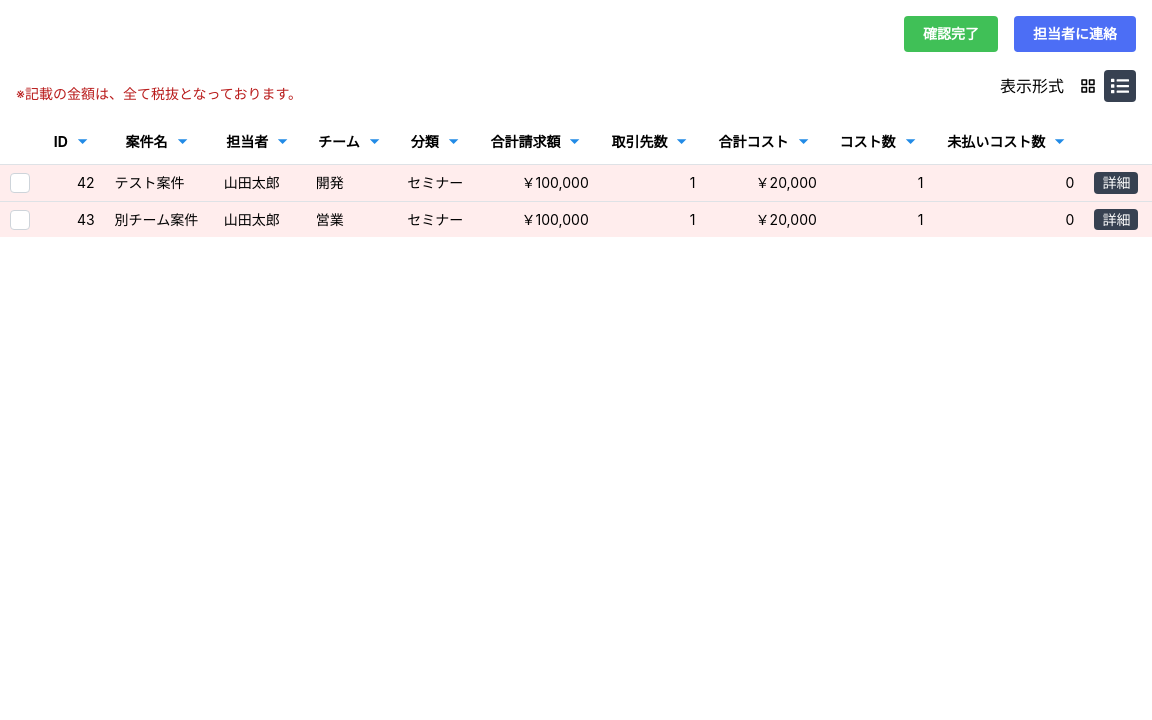
Test case: AccountingMatterList › カード表示でもアクティブなフィルタを解除できる
The width and height of the screenshot is (1152, 720).
Click the button named "チームの絞り込み" at [374, 142], box [364,127,385,157]
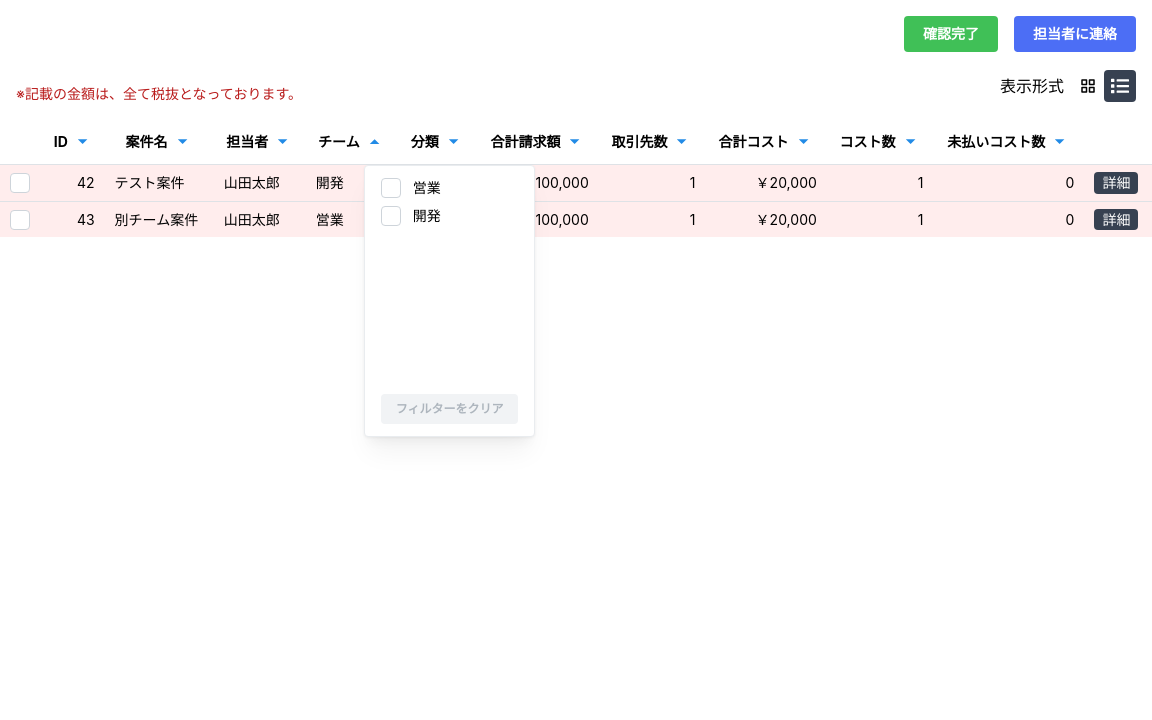
Click the checkbox labelled "開発" at [391, 216], box [381,206,401,226]
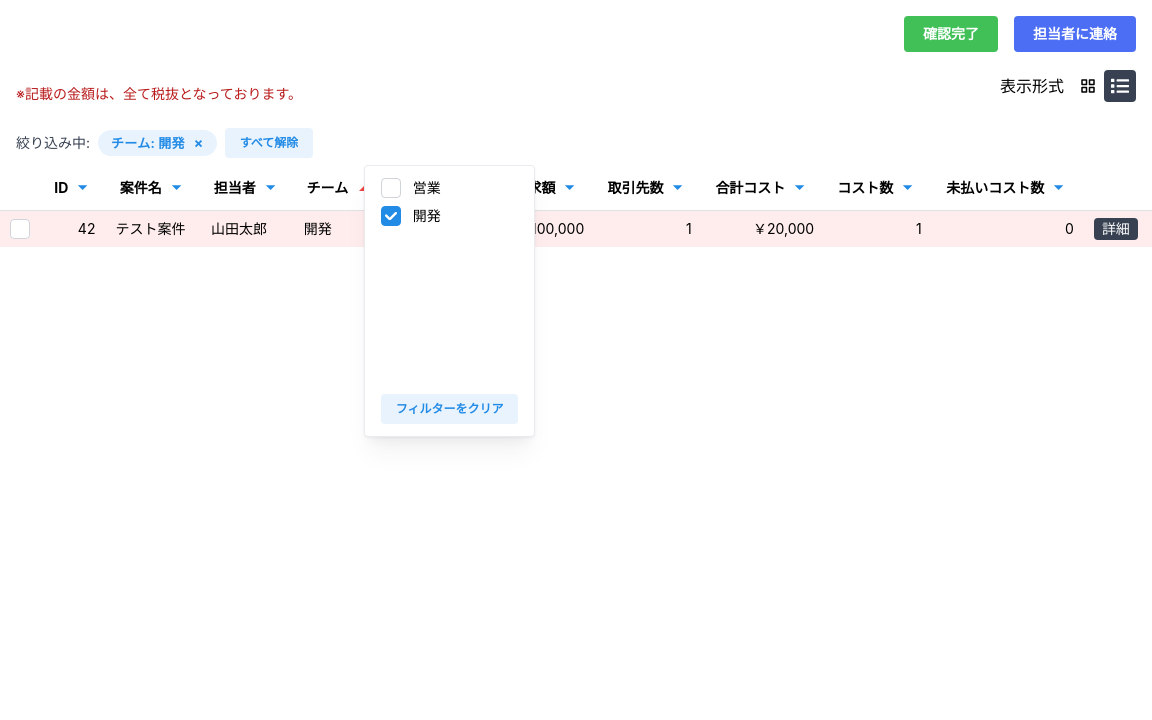
Click the button named "カード表示" at [1088, 86], box [1072,70,1104,102]
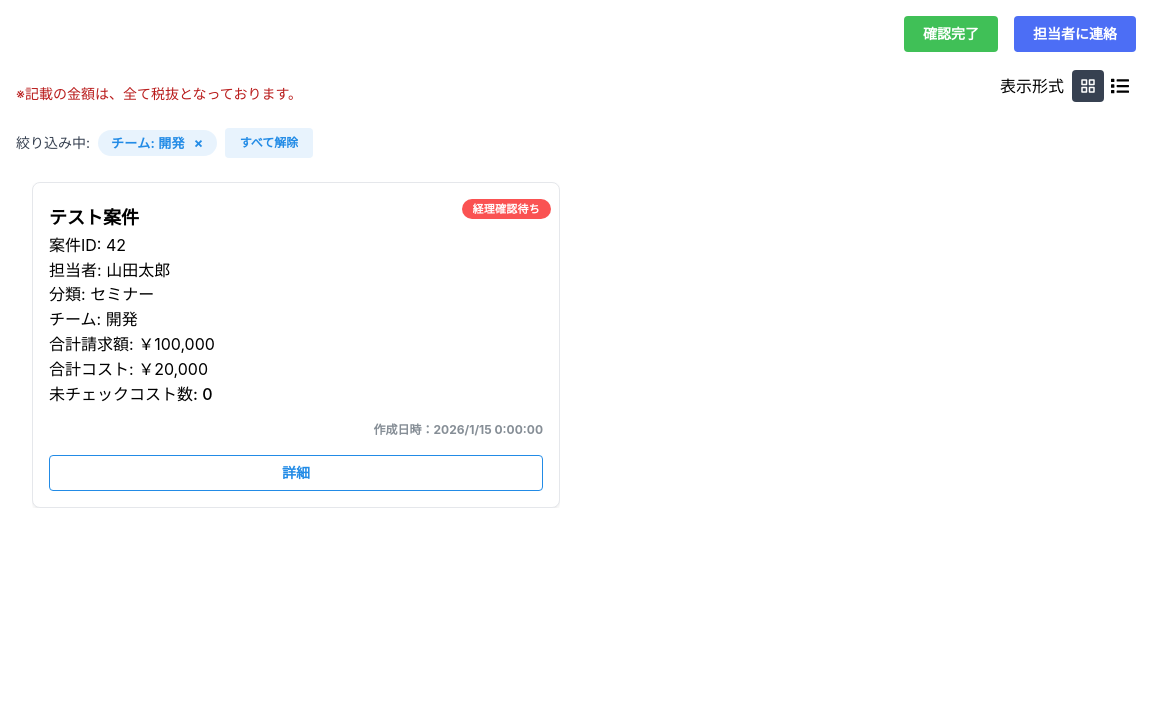
Expected: the text "絞り込み中:" is shown, [16,133,90,153]
Expected: the button named "チームの絞り込みを解除" is shown, [194,136,204,150]
Click the button "すべて解除" at [269, 143], box [225,128,313,158]
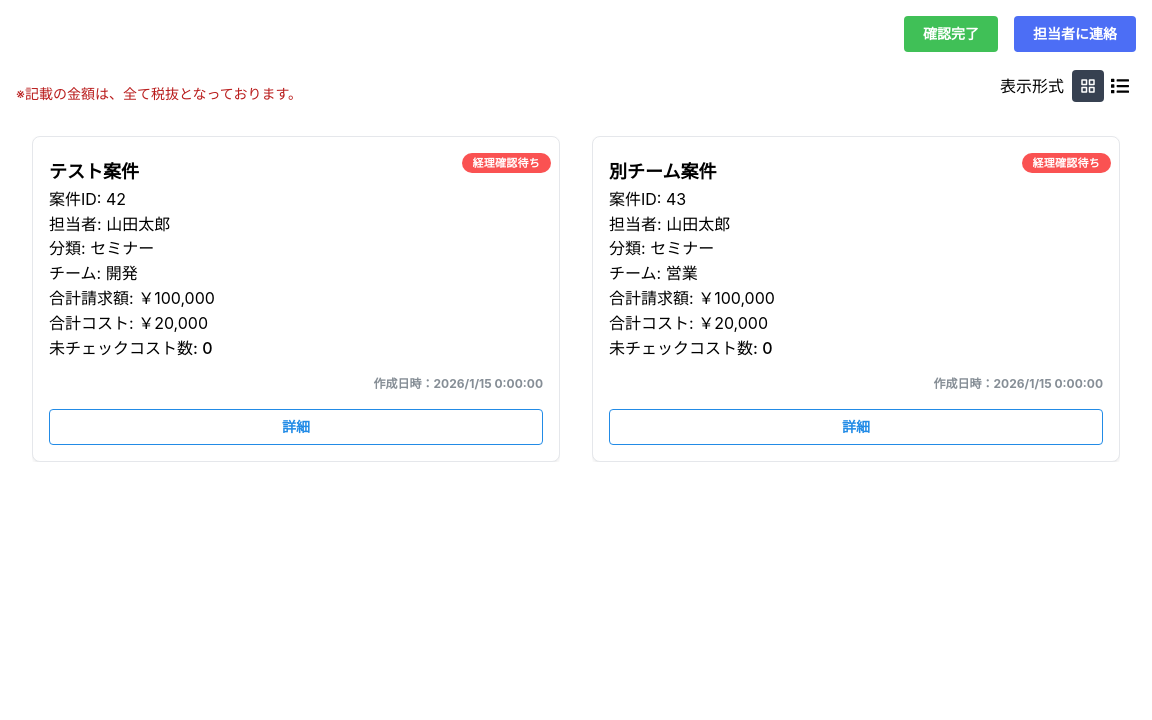
Expected: the text "絞り込み中:" is gone
